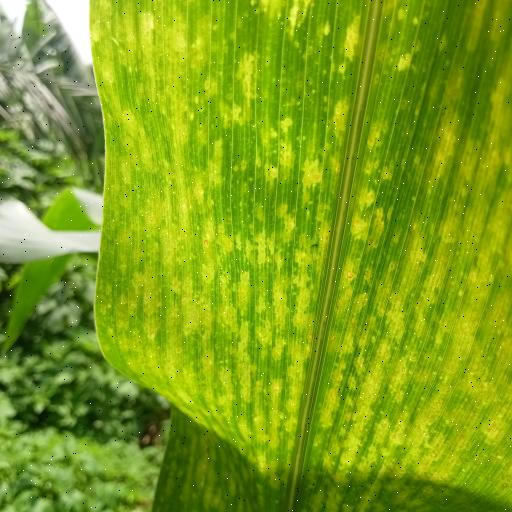Corn_Brown_Spots: (84, 8, 511, 512)
